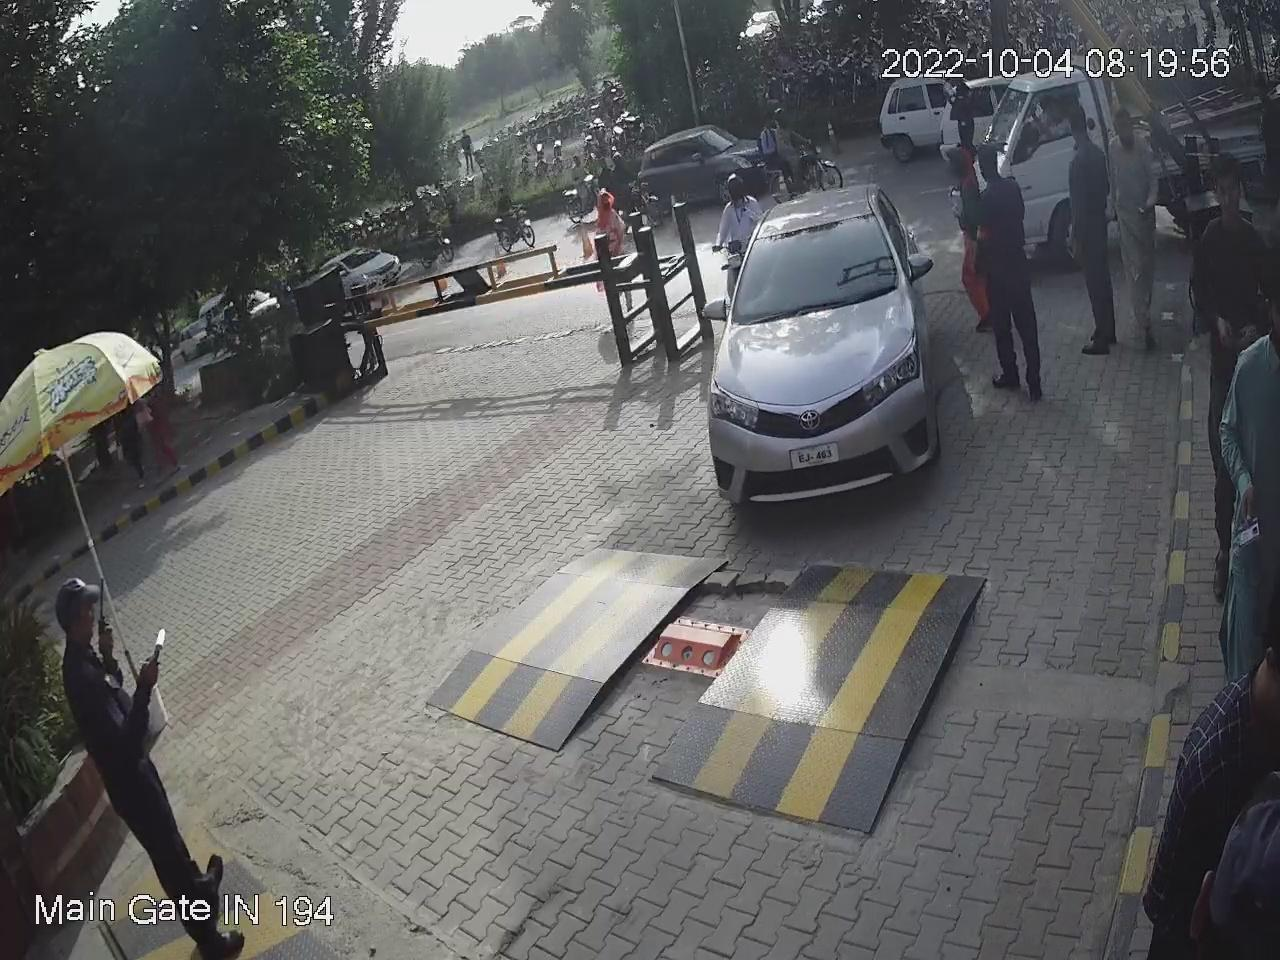windshield: (728, 210, 910, 335)
